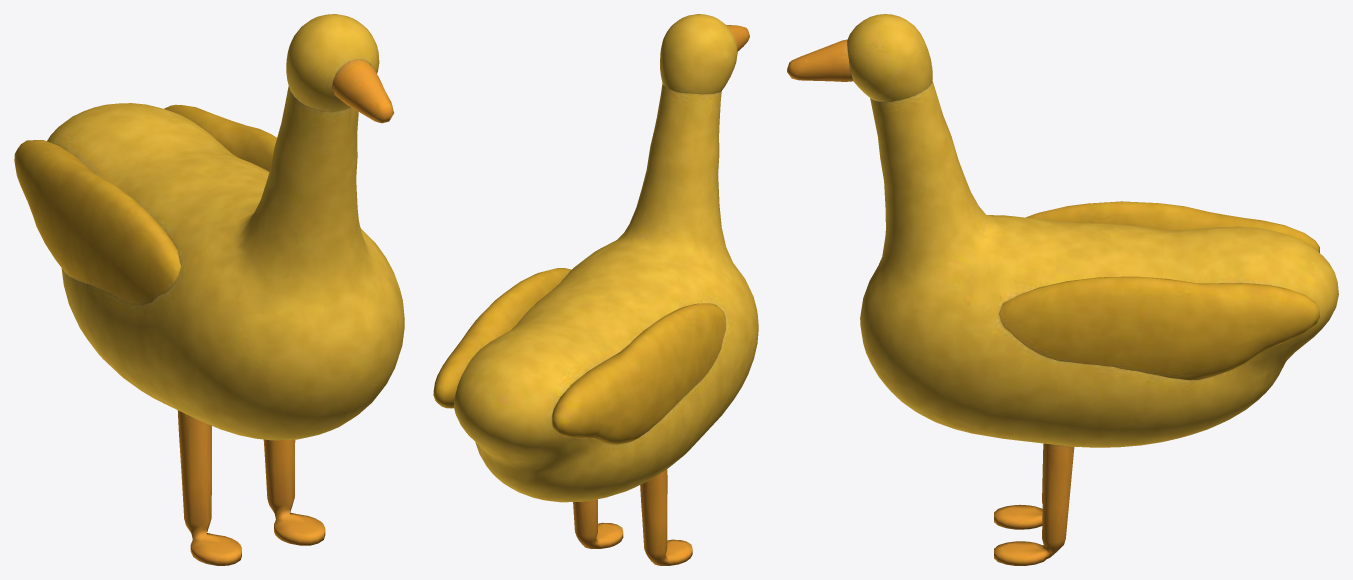
File: animal_golden_goose.glb
The picture shows the model from 3 angles, left to right: view 1: azimuth 30°, elevation 25°; view 2: azimuth 150°, elevation 25°; view 3: azimuth 270°, elevation 25°; orthographic projection. The views are drawn at different scales.
Visible parts, largest first — view 1: animal_golden_goose, head, leg0, leg1; view 2: animal_golden_goose, head, leg0, leg1; view 3: animal_golden_goose, head, leg1, leg0.
Part boxes in pixels (box(x1,y1,x2,y2)): animal_golden_goose: box(14, 86, 404, 440); head: box(286, 14, 393, 123); leg0: box(177, 410, 241, 565); leg1: box(263, 439, 325, 545); animal_golden_goose: box(433, 83, 758, 502); head: box(660, 14, 749, 94); leg0: box(640, 469, 692, 565); leg1: box(573, 499, 623, 548); animal_golden_goose: box(860, 80, 1338, 447); head: box(787, 14, 932, 102); leg1: box(994, 443, 1074, 565); leg0: box(994, 443, 1044, 529).
Size of the model in its own units: 0.1611 by 0.4021 by 0.3846.
1 material, 1 textured.
